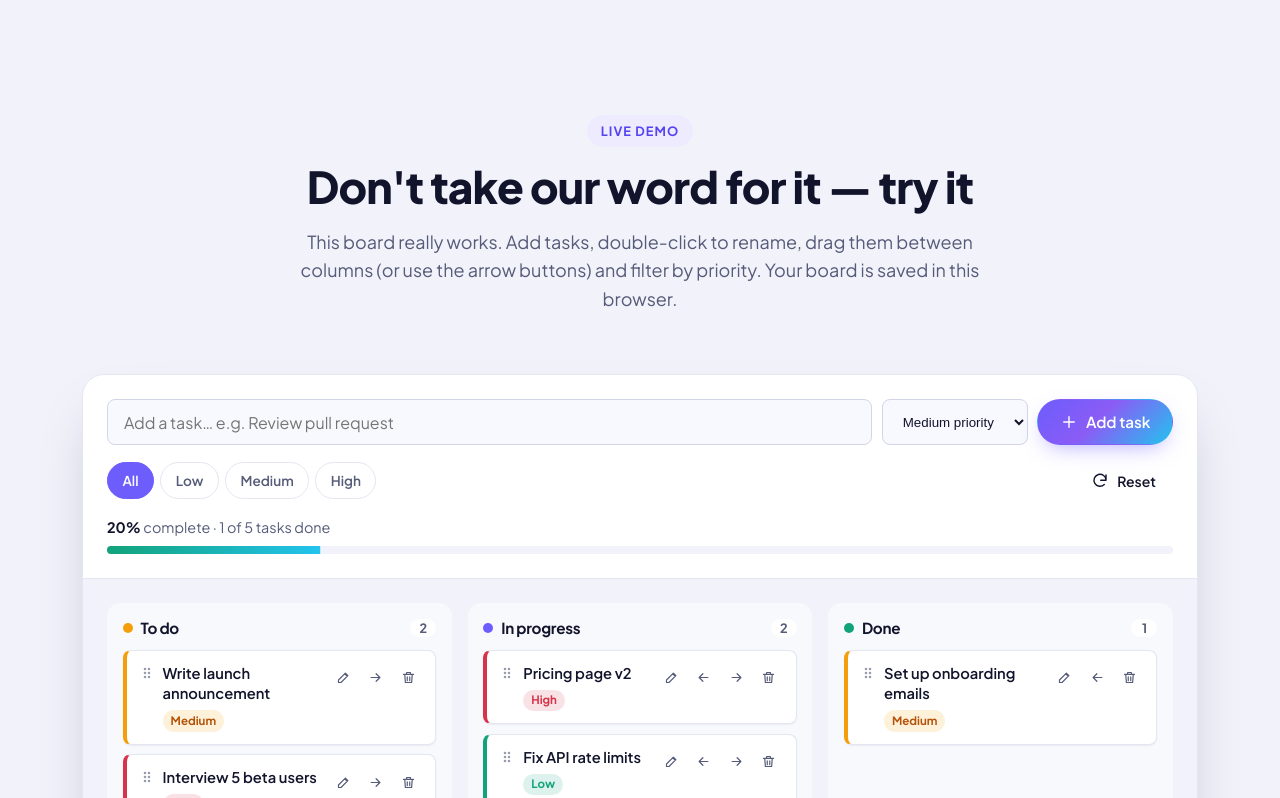
Test: BoardDemo › deletes a task and filters by priority
Click the button named "Delete \"Fix API rate limits\"" at (769, 762), box [754,747,784,777]
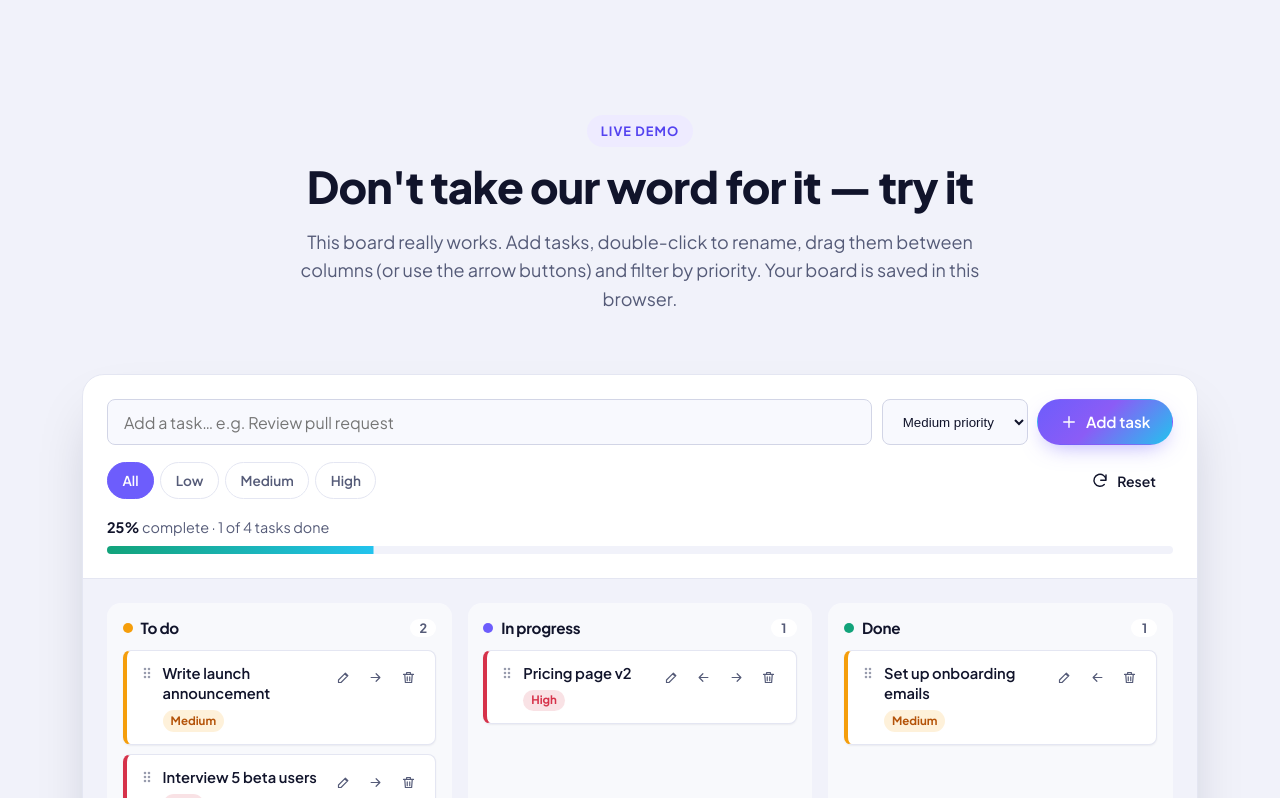
Expected: the text "Fix API rate limits" is not shown
Click the button "High" at (346, 481), box [315,462,376,499]
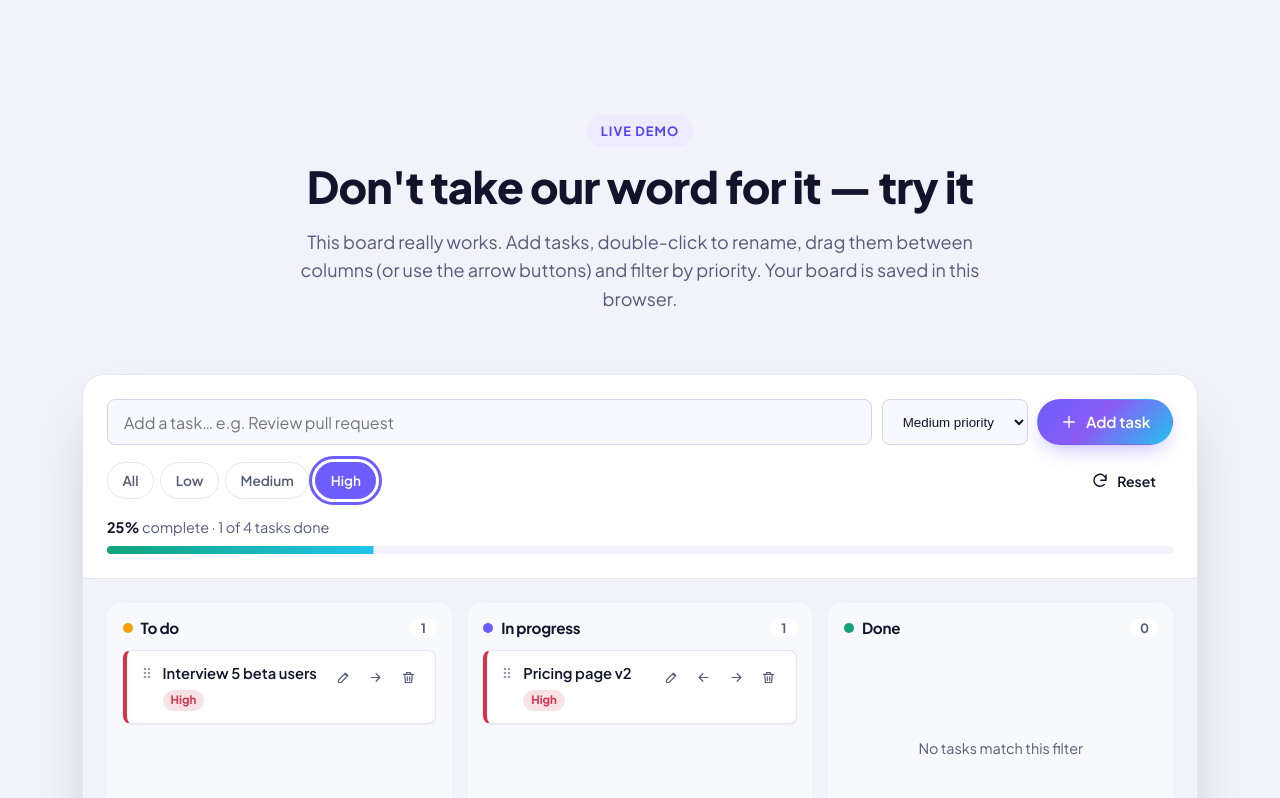
Expected: the text "Interview 5 beta users" is shown, [163,663,320,684]
Now the text "Write launch announcement" is gone
